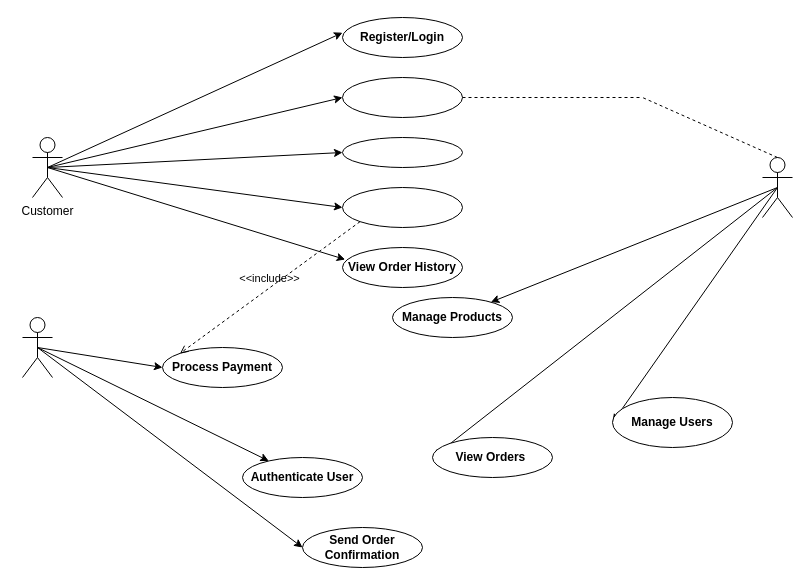
The diagram is 811 pixels wide and 585 high, and some of its shapes have lost their labels. Each missing label, with the centre of its shape:
Add to cart: point 402,152
Admin: point 777,187
Browse Products: point 402,97
Place Order: point 402,207
System: point 37,347
